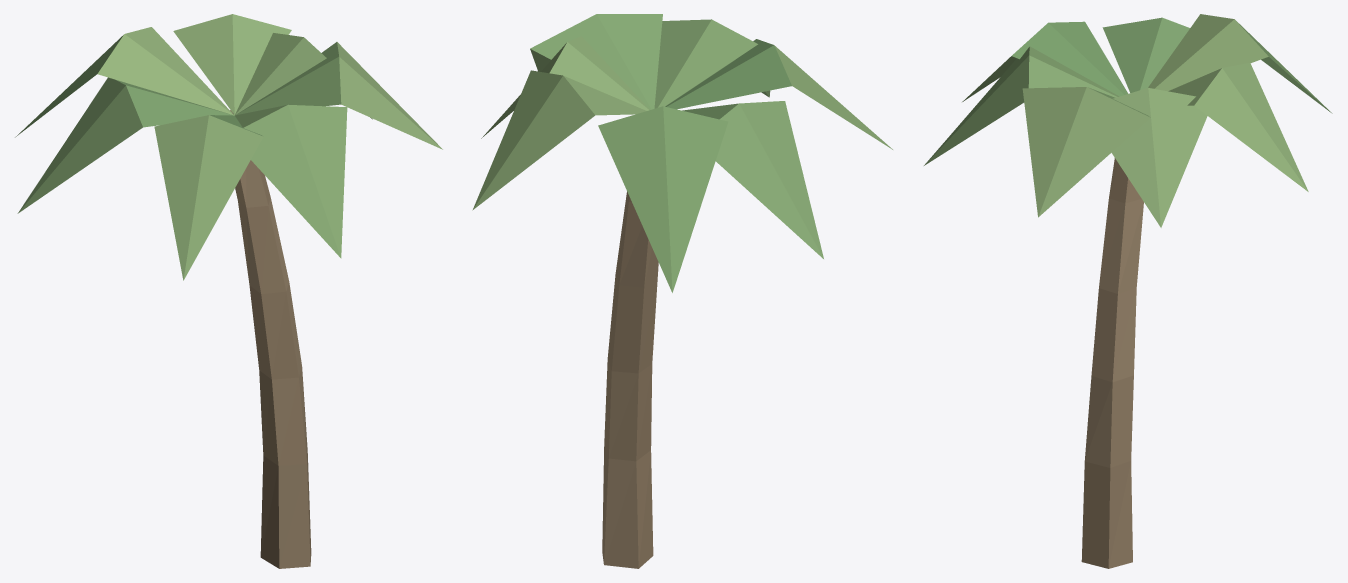
The model's file is desert-palm-1.glb.
The picture shows the model from 3 angles, left to right: view 1: azimuth 30°, elevation 25°; view 2: azimuth 150°, elevation 25°; view 3: azimuth 270°, elevation 25°; orthographic projection. The views are drawn at different scales.
Visible parts, largest first — view 1: desert-palm-1; view 2: desert-palm-1; view 3: desert-palm-1.
Boxes of the visible parts, x1,y1,x2,y2 form: desert-palm-1: (15, 14, 442, 568); desert-palm-1: (472, 14, 892, 568); desert-palm-1: (924, 14, 1332, 568).
Bounding box in the file's own units: 1.32 × 1.82 × 1.38.
